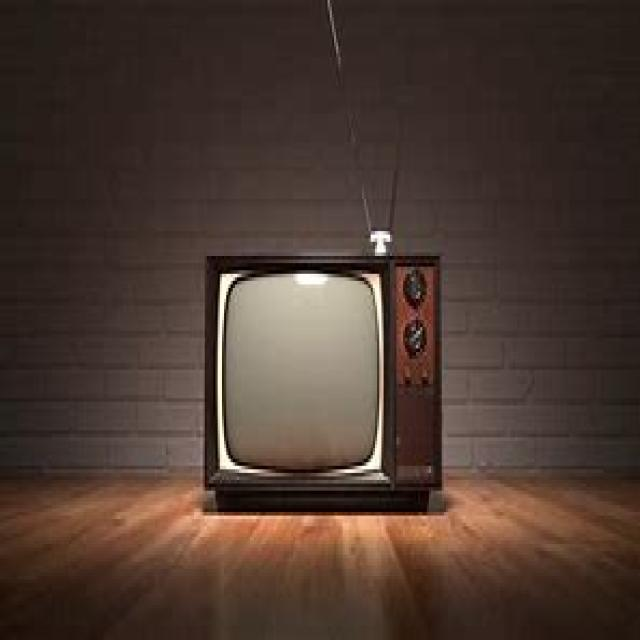tv: (202, 252, 444, 512)
